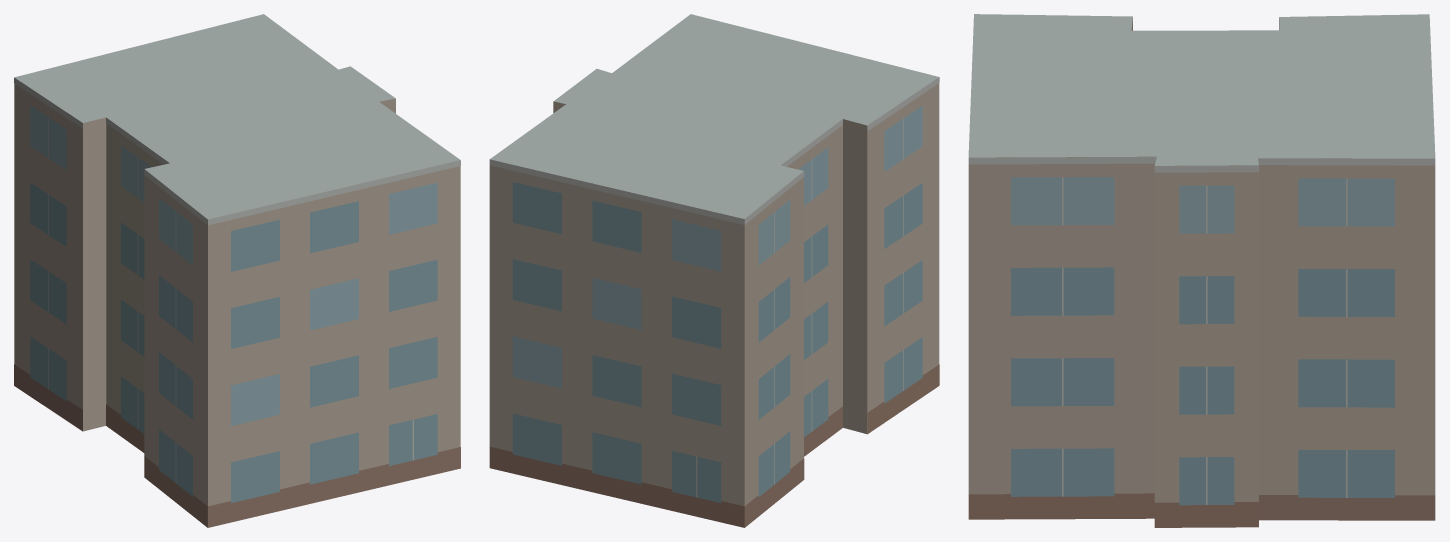
The model's file is survey-upis-32626898.glb.
The picture shows the model from 3 angles, left to right: view 1: azimuth 30°, elevation 25°; view 2: azimuth 150°, elevation 25°; view 3: azimuth 270°, elevation 25°; orthographic projection. The views are drawn at different scales.
Visible parts, largest first — view 1: survey-upis-32626898.tmp; view 2: survey-upis-32626898.tmp; view 3: survey-upis-32626898.tmp.
Part boxes in pixels (<box>): survey-upis-32626898.tmp: <box>14,14,460,527</box>; survey-upis-32626898.tmp: <box>489,14,939,527</box>; survey-upis-32626898.tmp: <box>968,14,1435,527</box>.
Size of the model in its own units: 11.53 by 12.8 by 14.98.
